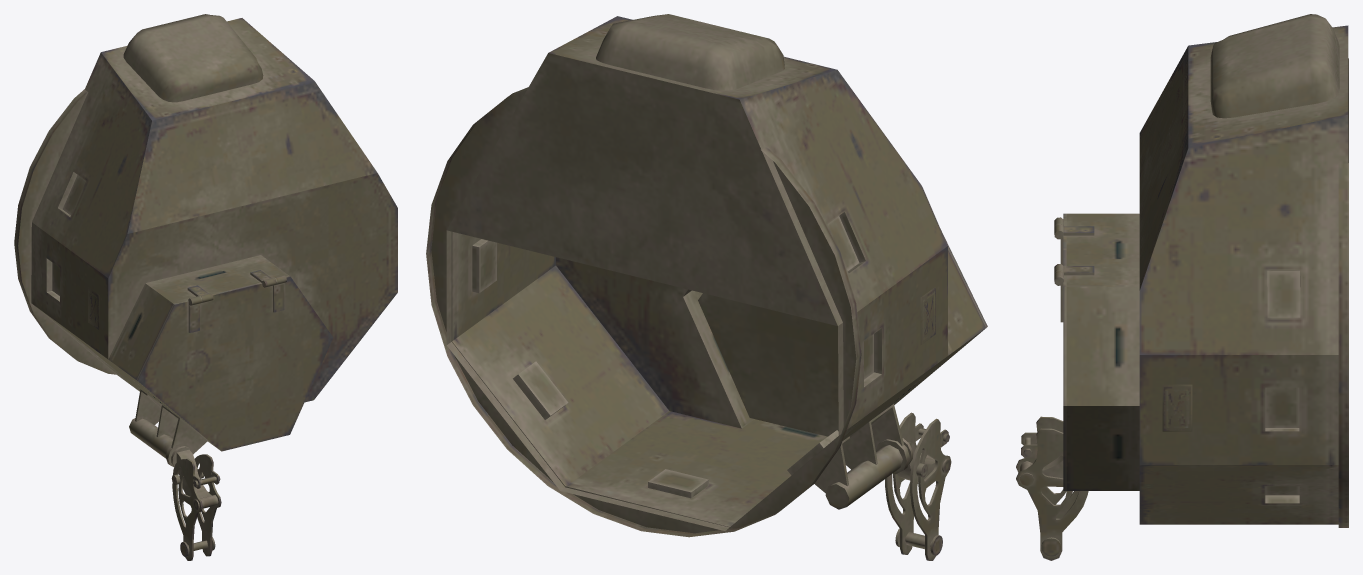
File: Turret_02.glb
3 views of the same model, side by side, from view 1: azimuth 30°, elevation 25°; view 2: azimuth 150°, elevation 25°; view 3: azimuth 270°, elevation 25° (orthographic). The views are drawn at different scales.
Visible parts, largest first — view 1: set_0_group_0; view 2: set_0_group_0; view 3: set_0_group_0.
Part boxes in pixels (x1,y1,x2,y2): set_0_group_0: (14,14,397,560); set_0_group_0: (426,14,987,560); set_0_group_0: (1016,14,1348,560).
Size of the model in its own units: 1.38 by 1.83 by 0.9673.
Materials: 1 (1 with a texture image).
